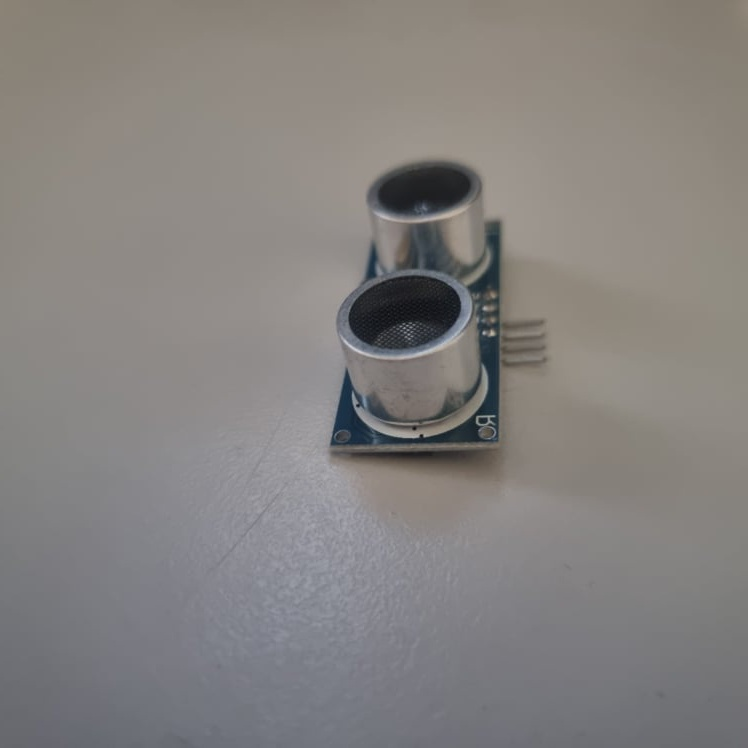SENSOR: (327, 158, 510, 453)
